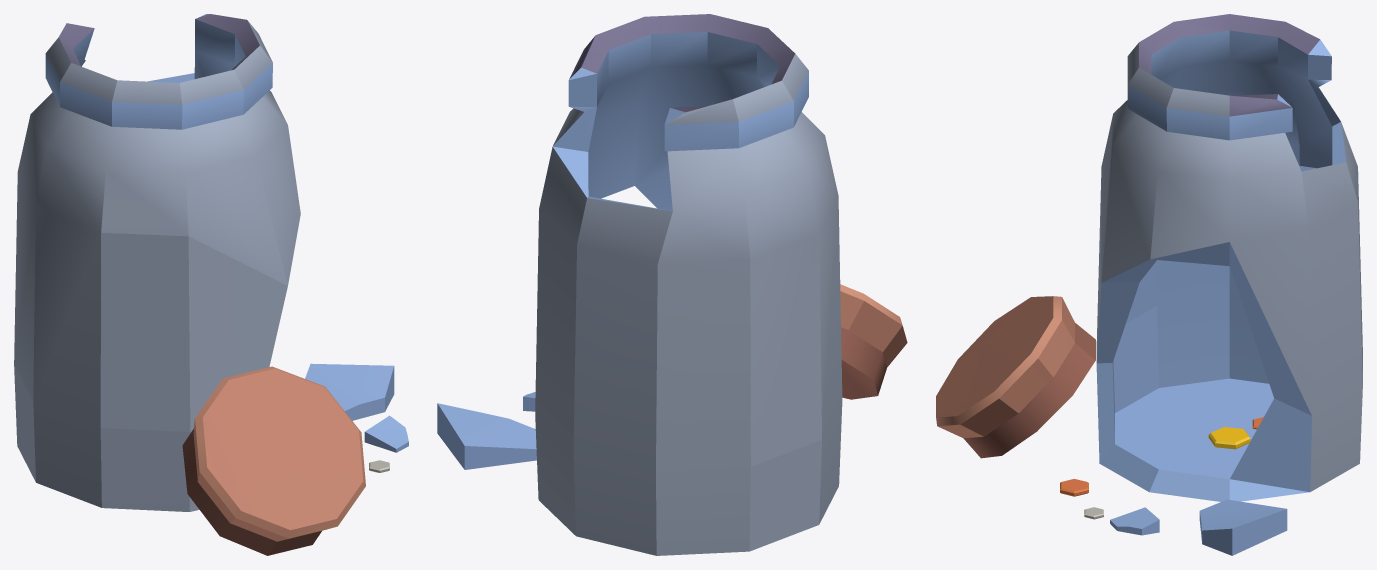
File: TipJarBroken_Mesh.fbx
The picture shows the model from 3 angles, left to right: view 1: azimuth 30°, elevation 25°; view 2: azimuth 150°, elevation 25°; view 3: azimuth 270°, elevation 25°; orthographic projection. The views are drawn at different scales.
Parts seen in each view (by area): view 1: TipJarBroken_Mesh; view 2: TipJarBroken_Mesh; view 3: TipJarBroken_Mesh.
Part boxes in pixels (box(x1,y1,x2,y2)): TipJarBroken_Mesh: box(14, 14, 408, 555); TipJarBroken_Mesh: box(437, 14, 907, 555); TipJarBroken_Mesh: box(936, 14, 1362, 555).
Bounding box in the file's own units: 28 × 30.52 × 30.04.
Materials: 1 (1 with a texture image).
